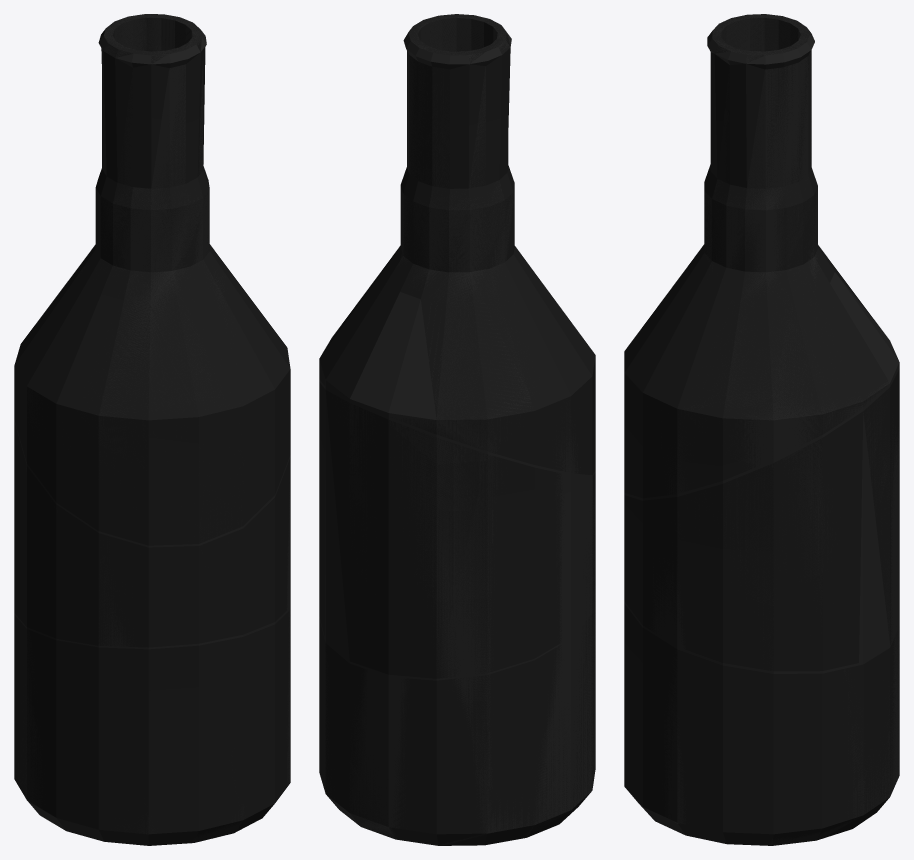
File: Bottle 1.fbx
3 renders of one model, left to right at view 1: azimuth 30°, elevation 25°; view 2: azimuth 150°, elevation 25°; view 3: azimuth 270°, elevation 25°, orthographic.
Parts seen in each view (by area): view 1: Bottle_1 Cell 3, Bottle_1 Cell 1, Bottle_1 Cell 2, Bottle_1; view 2: Bottle_1, Bottle_1 Cell 3, Bottle_1 Cell 2, Bottle_1 Cell 1; view 3: Bottle_1 Cell 3, Bottle_1 Cell 2, Bottle_1, Bottle_1 Cell 1.
Part boxes in pixels (bbox=[...]): Bottle_1 Cell 3: bbox=[14, 14, 290, 545]; Bottle_1 Cell 1: bbox=[14, 610, 290, 845]; Bottle_1 Cell 2: bbox=[14, 422, 290, 647]; Bottle_1: bbox=[14, 14, 290, 843]; Bottle_1: bbox=[319, 14, 595, 845]; Bottle_1 Cell 3: bbox=[319, 14, 595, 474]; Bottle_1 Cell 2: bbox=[319, 382, 595, 678]; Bottle_1 Cell 1: bbox=[319, 588, 595, 845]; Bottle_1 Cell 3: bbox=[624, 14, 889, 498]; Bottle_1 Cell 2: bbox=[624, 369, 899, 671]; Bottle_1: bbox=[624, 14, 899, 845]; Bottle_1 Cell 1: bbox=[624, 603, 899, 845].
Size of the model in its own units: 22.15 by 67.5 by 22.05.
